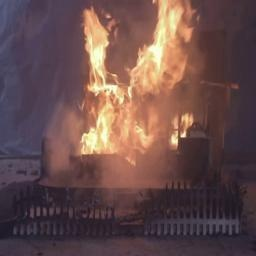fire: (67, 3, 212, 187)
